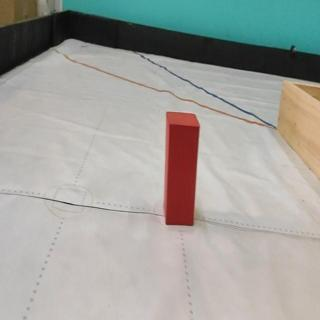redbox: (164, 111, 201, 226)
